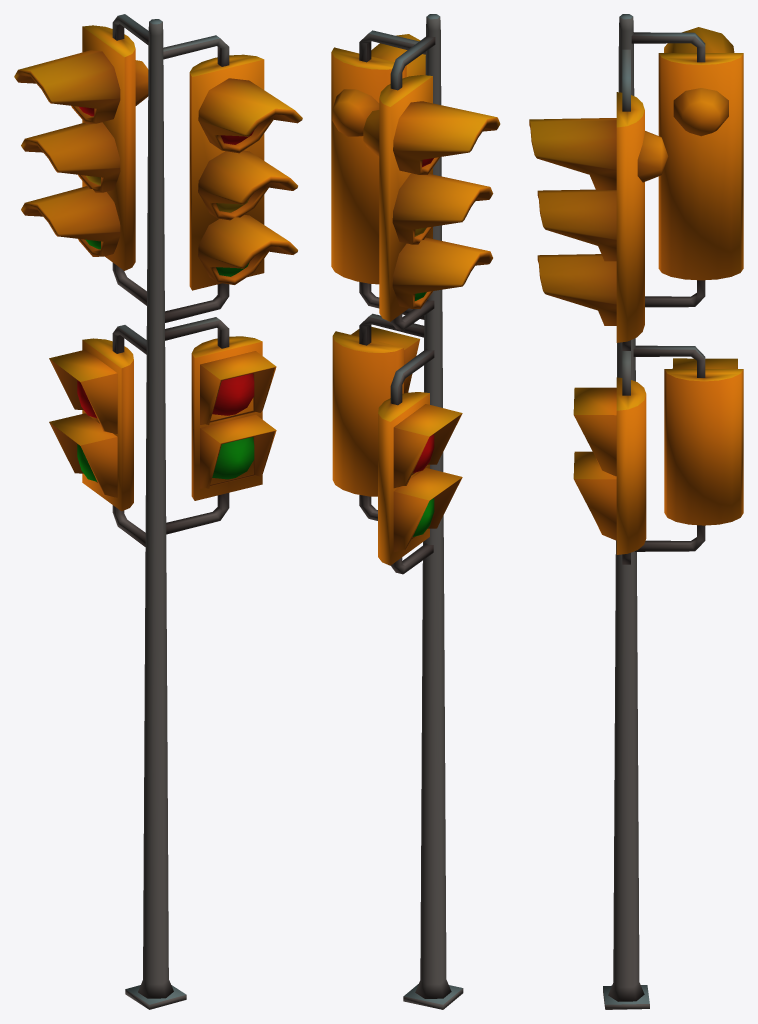
3 views of the same model, side by side, from view 1: azimuth 30°, elevation 25°; view 2: azimuth 150°, elevation 25°; view 3: azimuth 270°, elevation 25° (orthographic).
Parts seen in each view (by area): view 1: base.037; view 2: base.037; view 3: base.037.
Part boxes in pixels (x1,y1,x2,y2): base.037: (14,14,302,1009); base.037: (331,14,500,1009); base.037: (529,14,743,1009).
Size of the model in its own units: 0.1041 by 0.5 by 0.0989.
